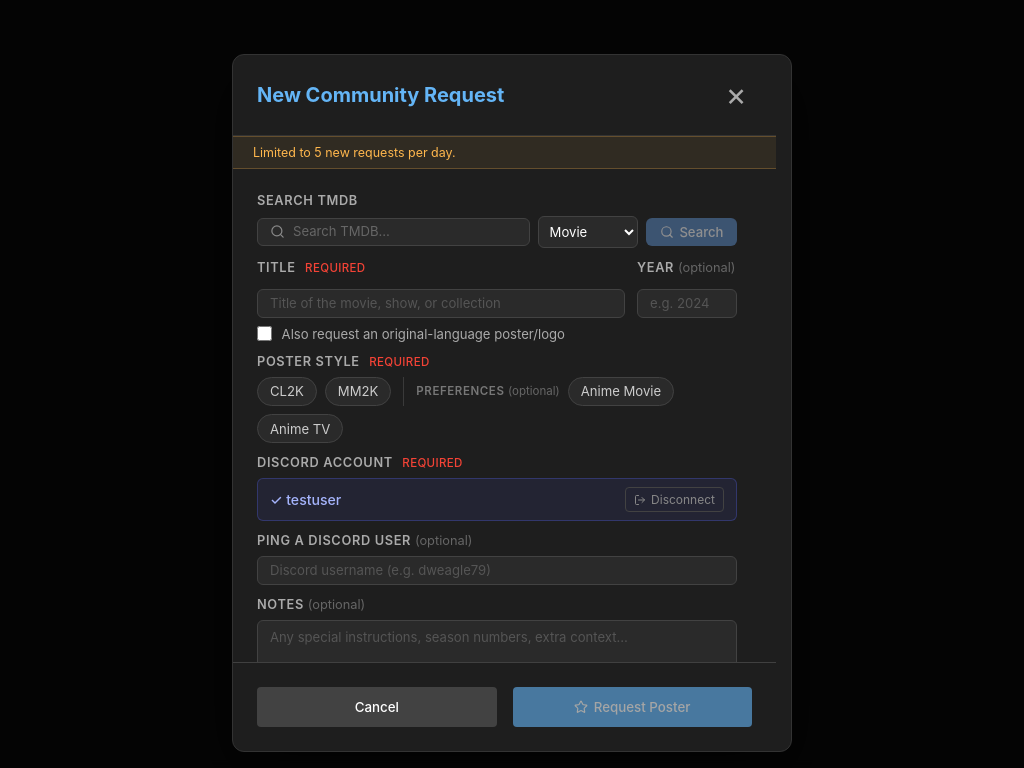
Test case: NewCommunityRequestModal › submit button › enables once a custom title and poster style are provided
Expected: the button "Request Poster" is disabled, [512,687,752,727]
Step 1. Type "My Custom Movie" into the field with placeholder "Title of the movie, show, or collection" → (441, 303), box [257,289,625,318]
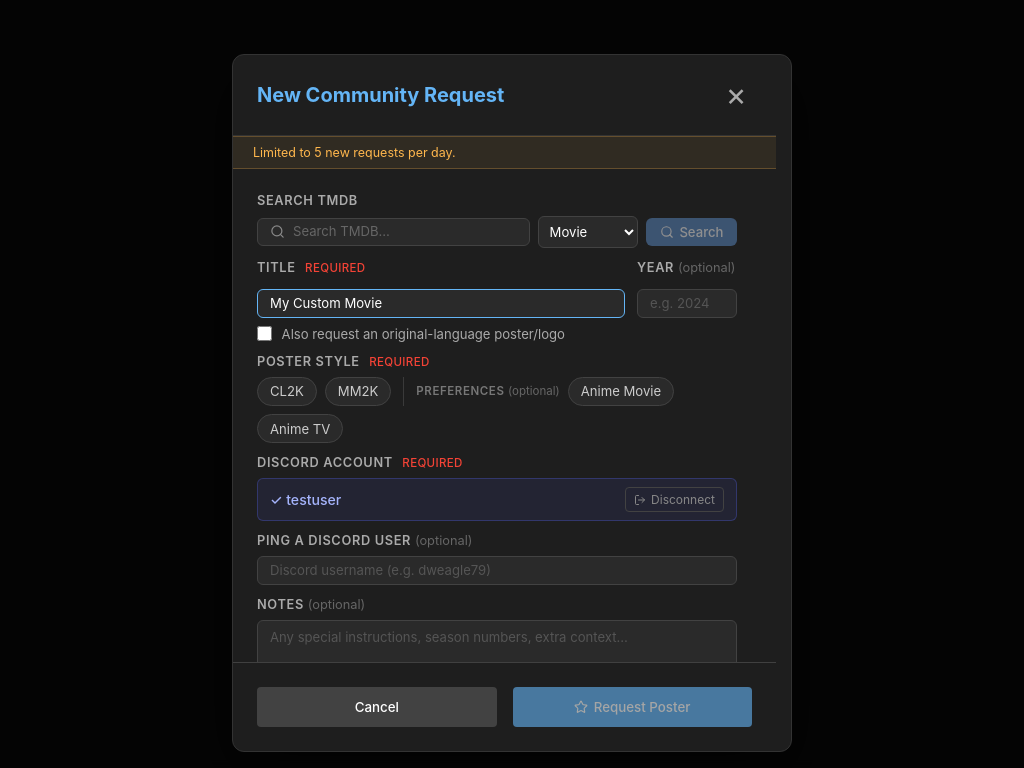
Expected: the button "Request Poster" is disabled, [512,687,752,727]
Step 2. Click the button "CL2K" → (287, 392), box [257,377,317,406]
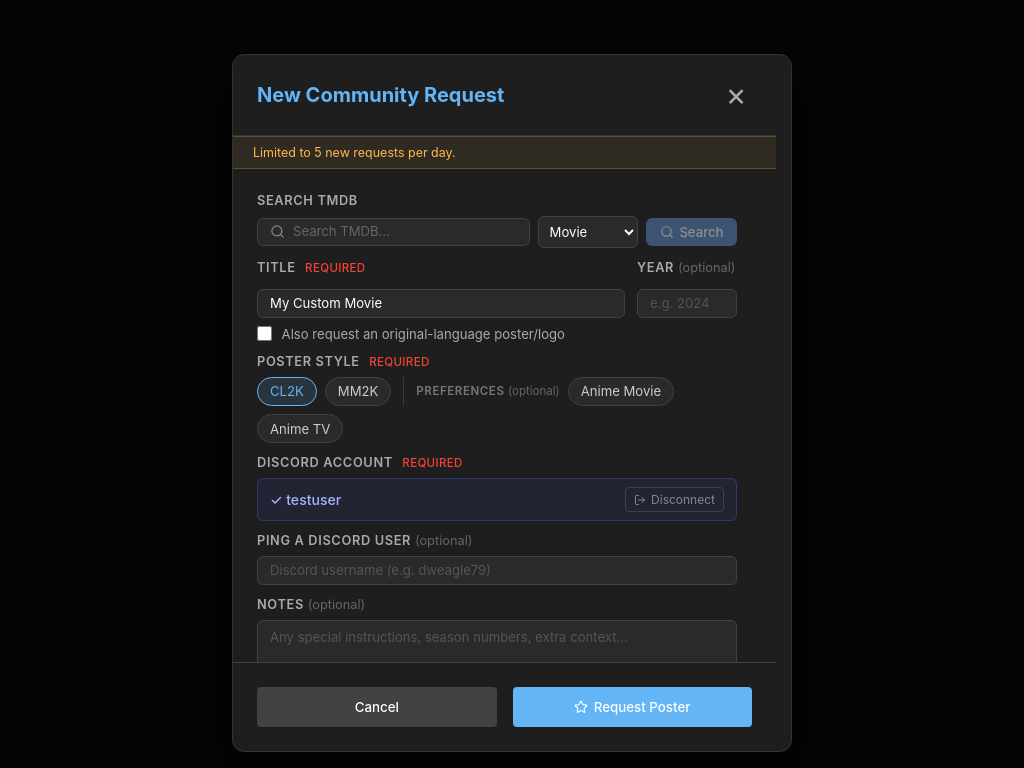
Expected: the button "Request Poster" is enabled, [512,687,752,727]
